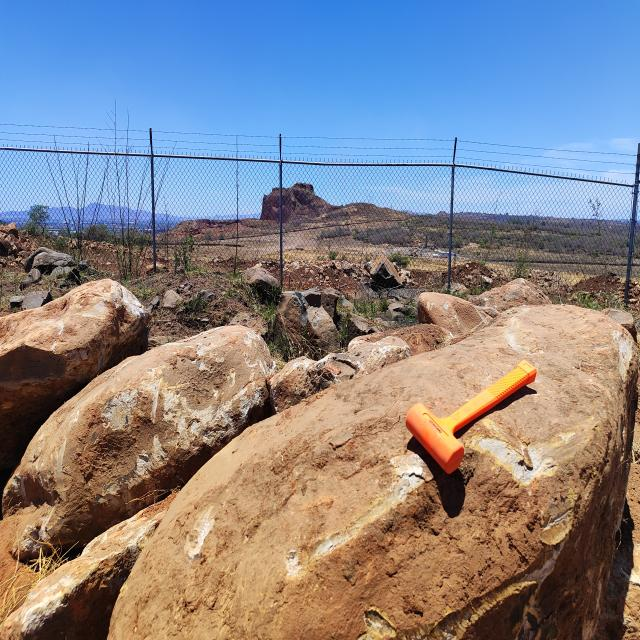Orange_hammer: (405, 358, 537, 475)
